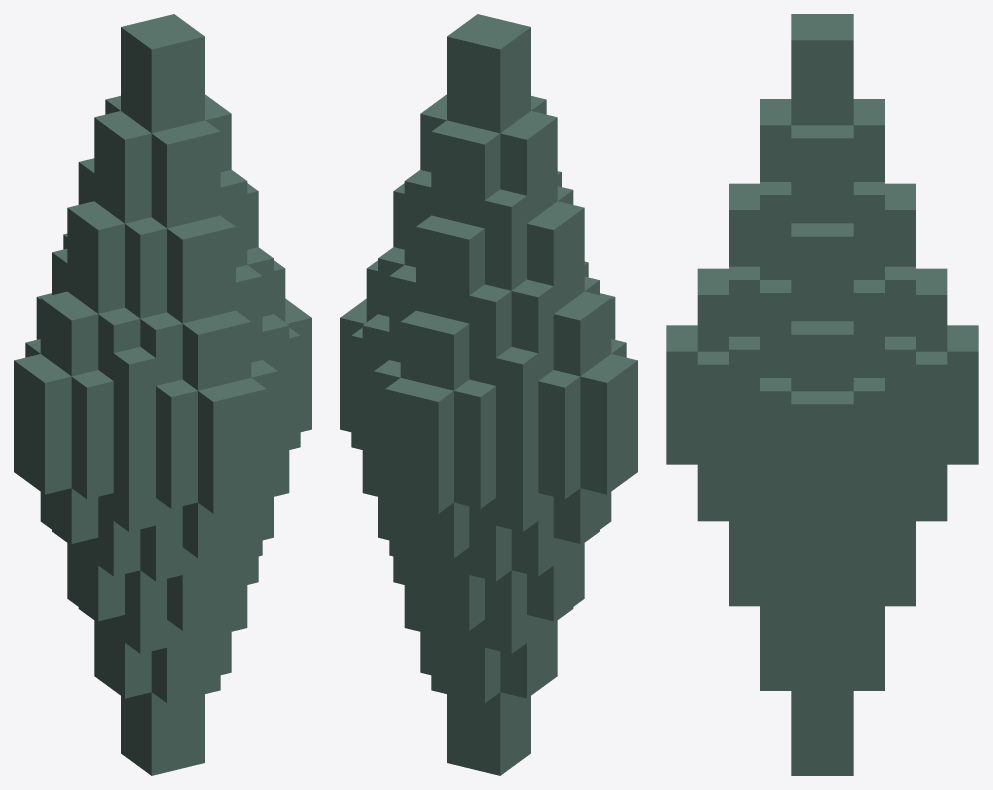
The model's file is Crystal_Big_1.obj.
The picture shows the model from 3 angles, left to right: view 1: azimuth 30°, elevation 25°; view 2: azimuth 150°, elevation 25°; view 3: azimuth 270°, elevation 25°; orthographic projection.
Bounding box in the file's own units: 0.25 × 0.65 × 0.25.
